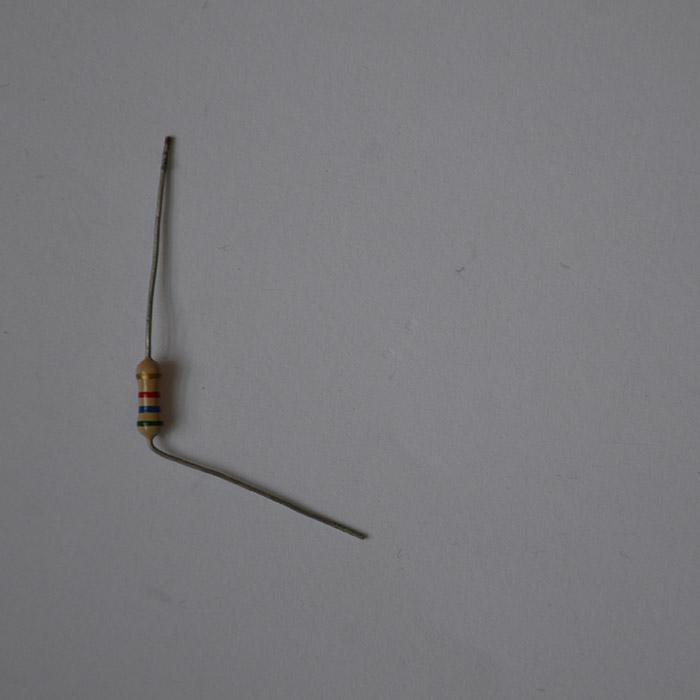resistor: (135, 355, 163, 442)
